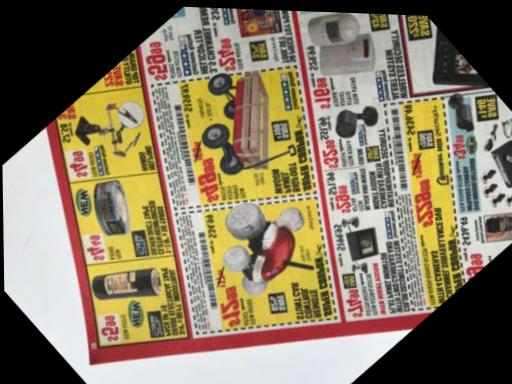paper: (0, 2, 511, 383)
